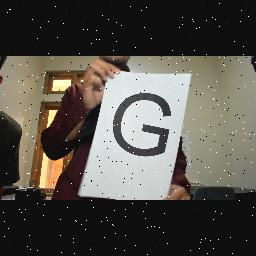g: (114, 88, 172, 168)
